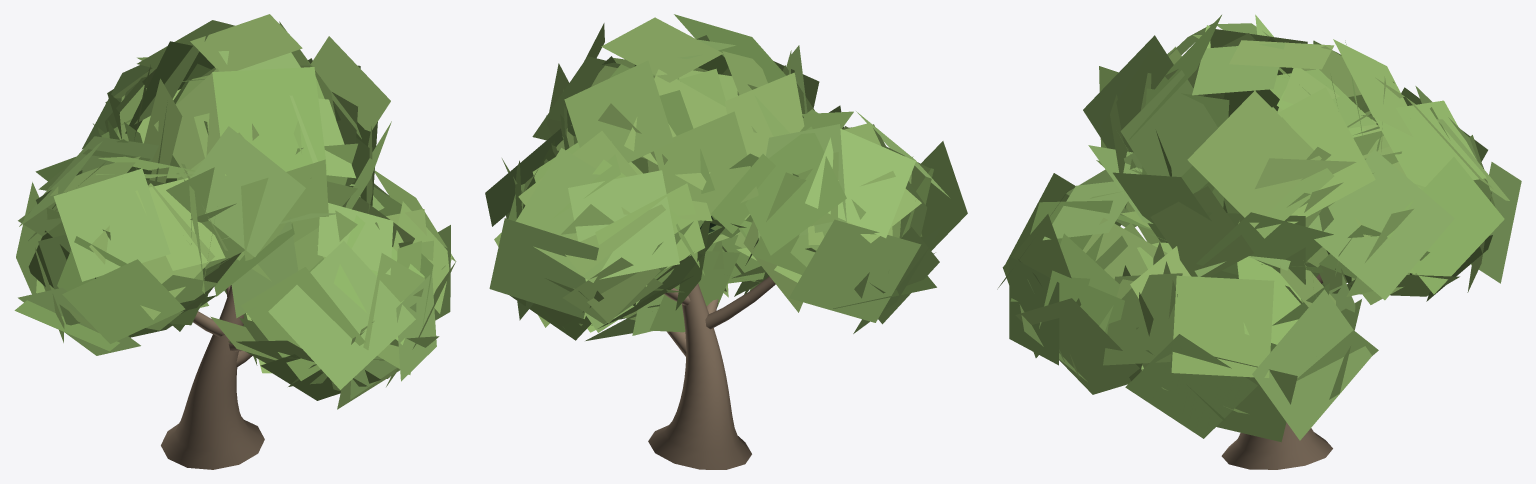
The model's file is tree_fruit_1.glb.
The picture shows the model from 3 angles, left to right: view 1: azimuth 30°, elevation 25°; view 2: azimuth 150°, elevation 25°; view 3: azimuth 270°, elevation 25°; orthographic projection. The views are drawn at different scales.
Visible parts, largest first — view 1: Tree; view 2: Tree; view 3: Tree.
Boxes of the visible parts, <box> form: Tree: <box>14,14,456,469</box>; Tree: <box>485,14,967,469</box>; Tree: <box>997,14,1521,469</box>.
Size of the model in its own units: 5.31 by 4.86 by 5.34.
